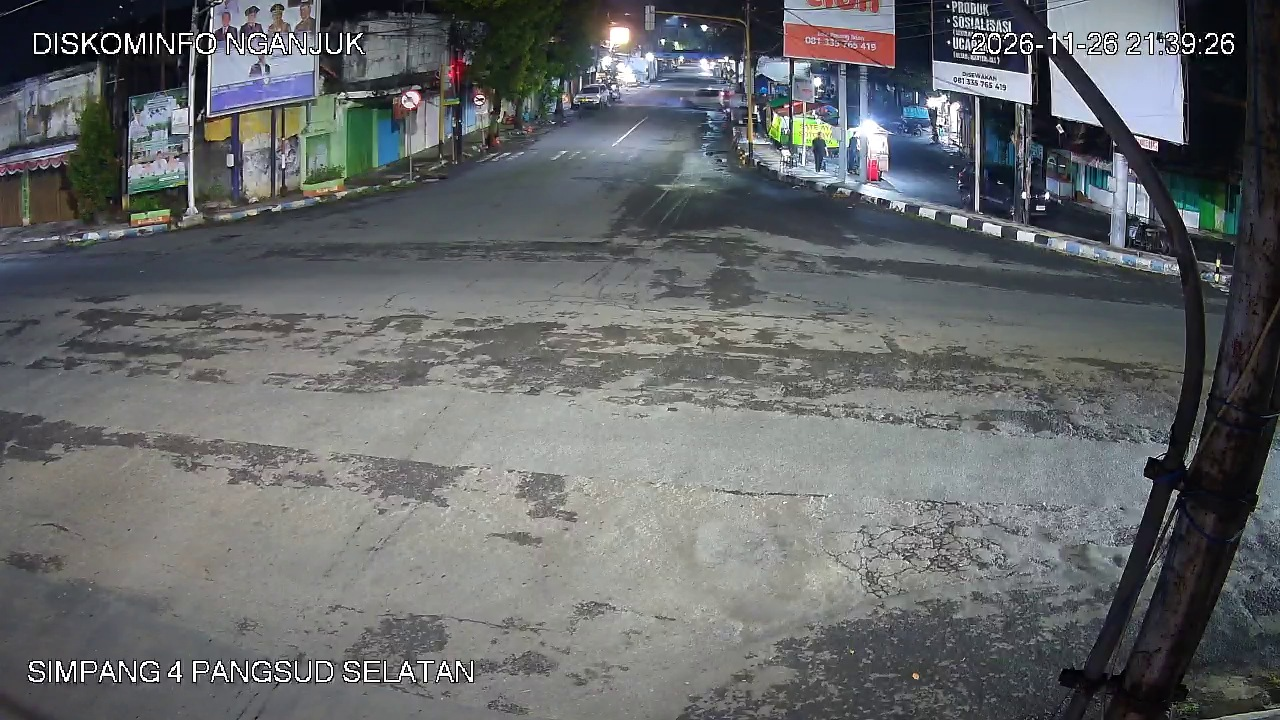Gerobak: (849, 114, 891, 176)
